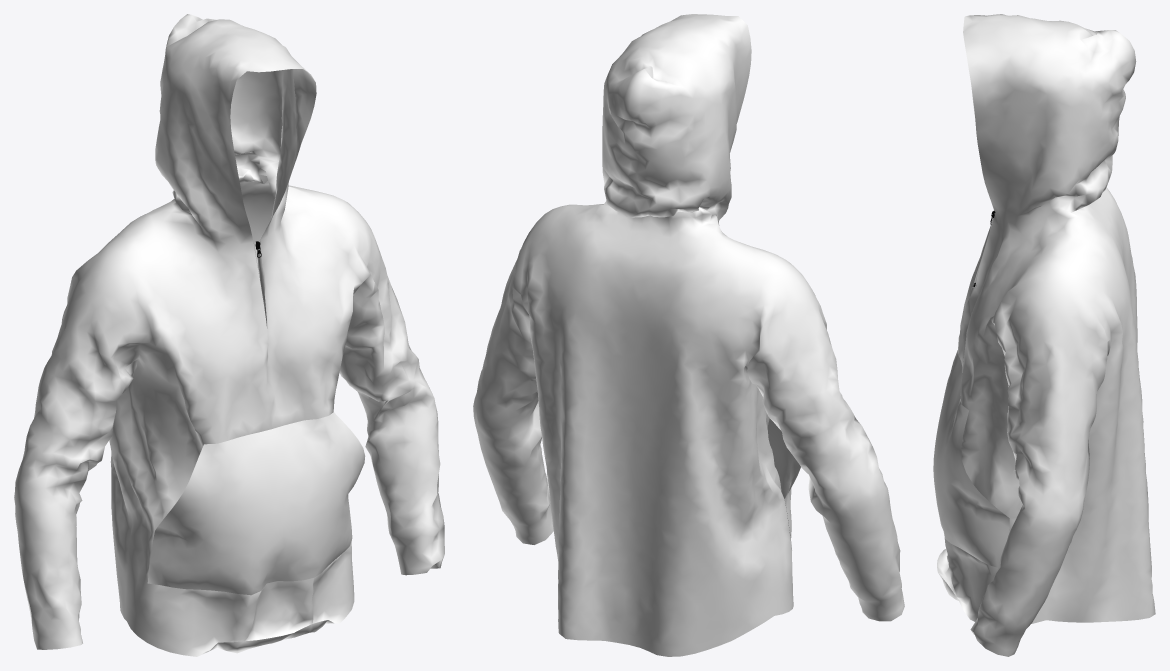
Rendered from Tshirt.glb.
3 views of the same model, side by side, from view 1: azimuth 30°, elevation 25°; view 2: azimuth 150°, elevation 25°; view 3: azimuth 270°, elevation 25° (orthographic). The views are drawn at different scales.
Parts seen in each view (by area): view 1: hoodieFBX; view 2: hoodieFBX; view 3: hoodieFBX.
Boxes of the visible parts, <box> form: hoodieFBX: <box>14,14,444,656</box>; hoodieFBX: <box>473,14,904,656</box>; hoodieFBX: <box>933,14,1155,656</box>.
Size of the model in its own units: 0.6933 by 0.939 by 0.332.
Materials: 5 (5 with a texture image).
